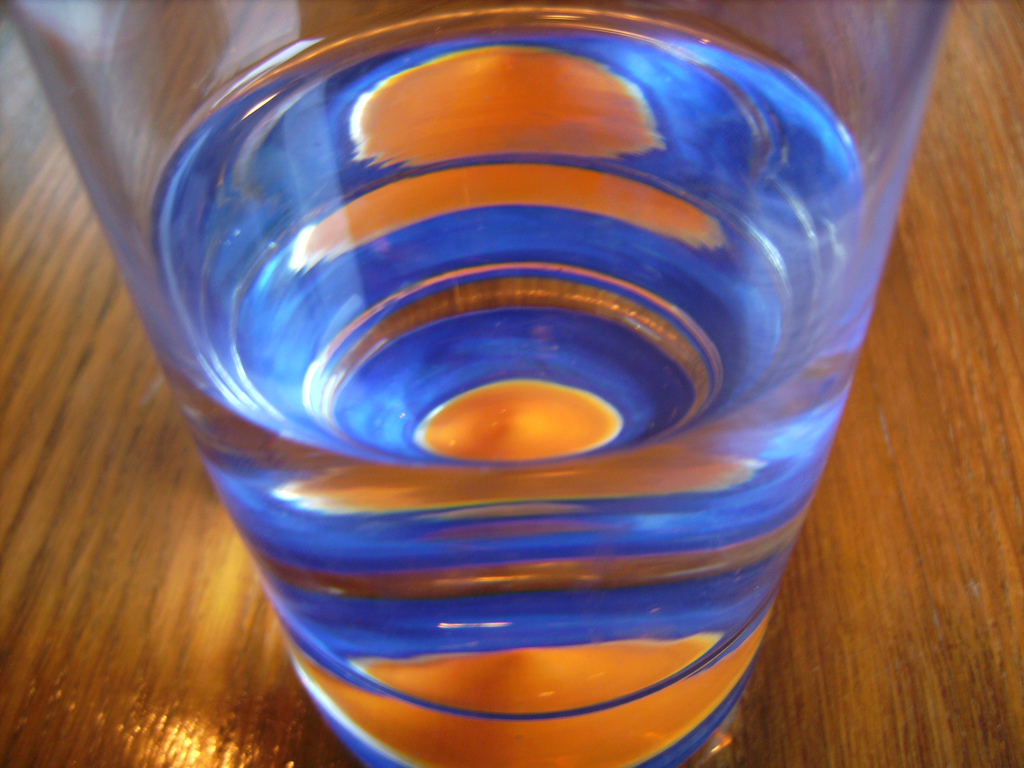glass of water: (27, 5, 963, 768)
